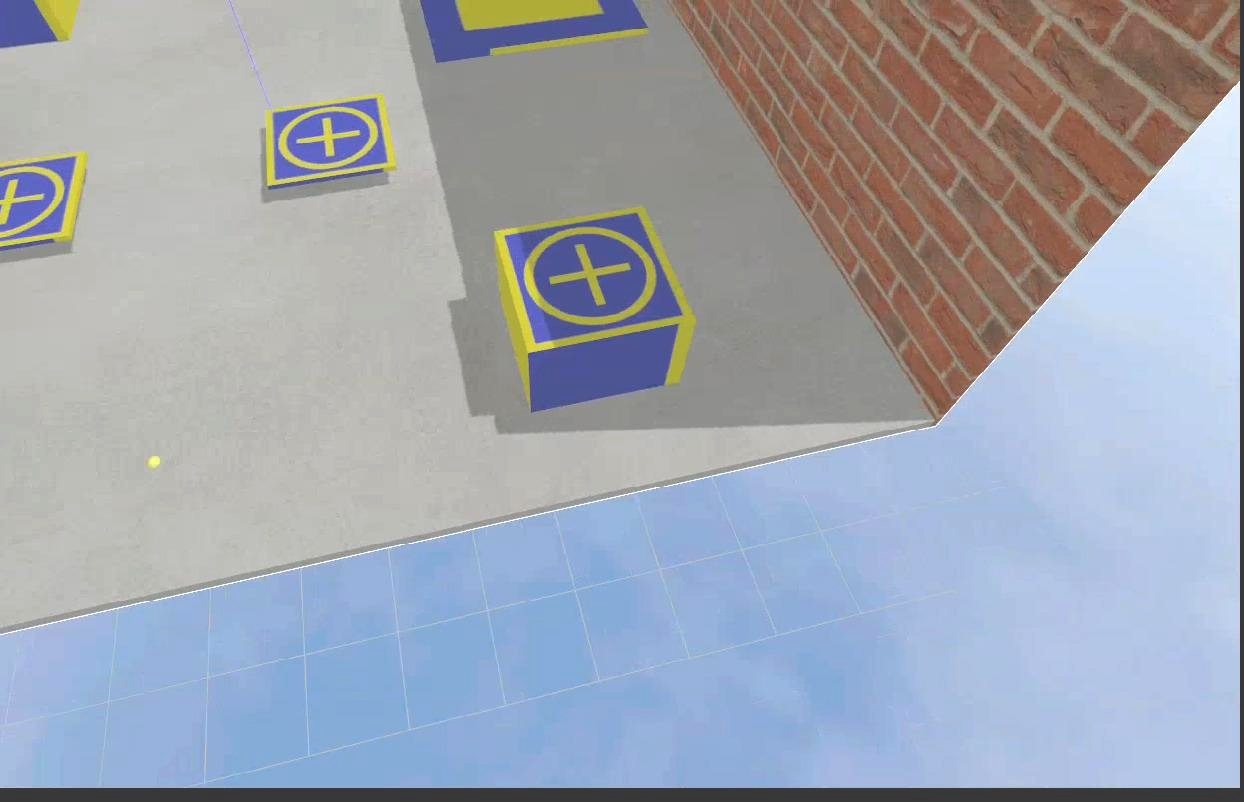large_base: (417, 1, 651, 67)
small_base: (493, 202, 698, 353), (263, 94, 402, 192), (0, 150, 91, 254)
